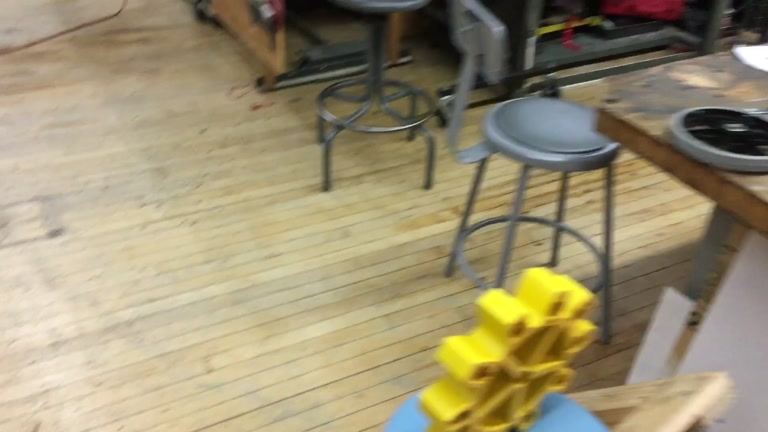gear: (417, 266, 602, 432)
